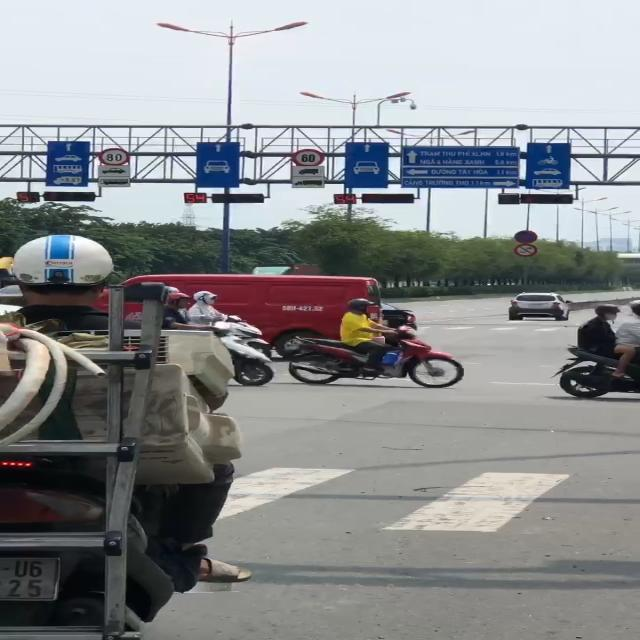Bien bao toc do toi da cho phep: (96, 146, 134, 166), (292, 147, 328, 168)
